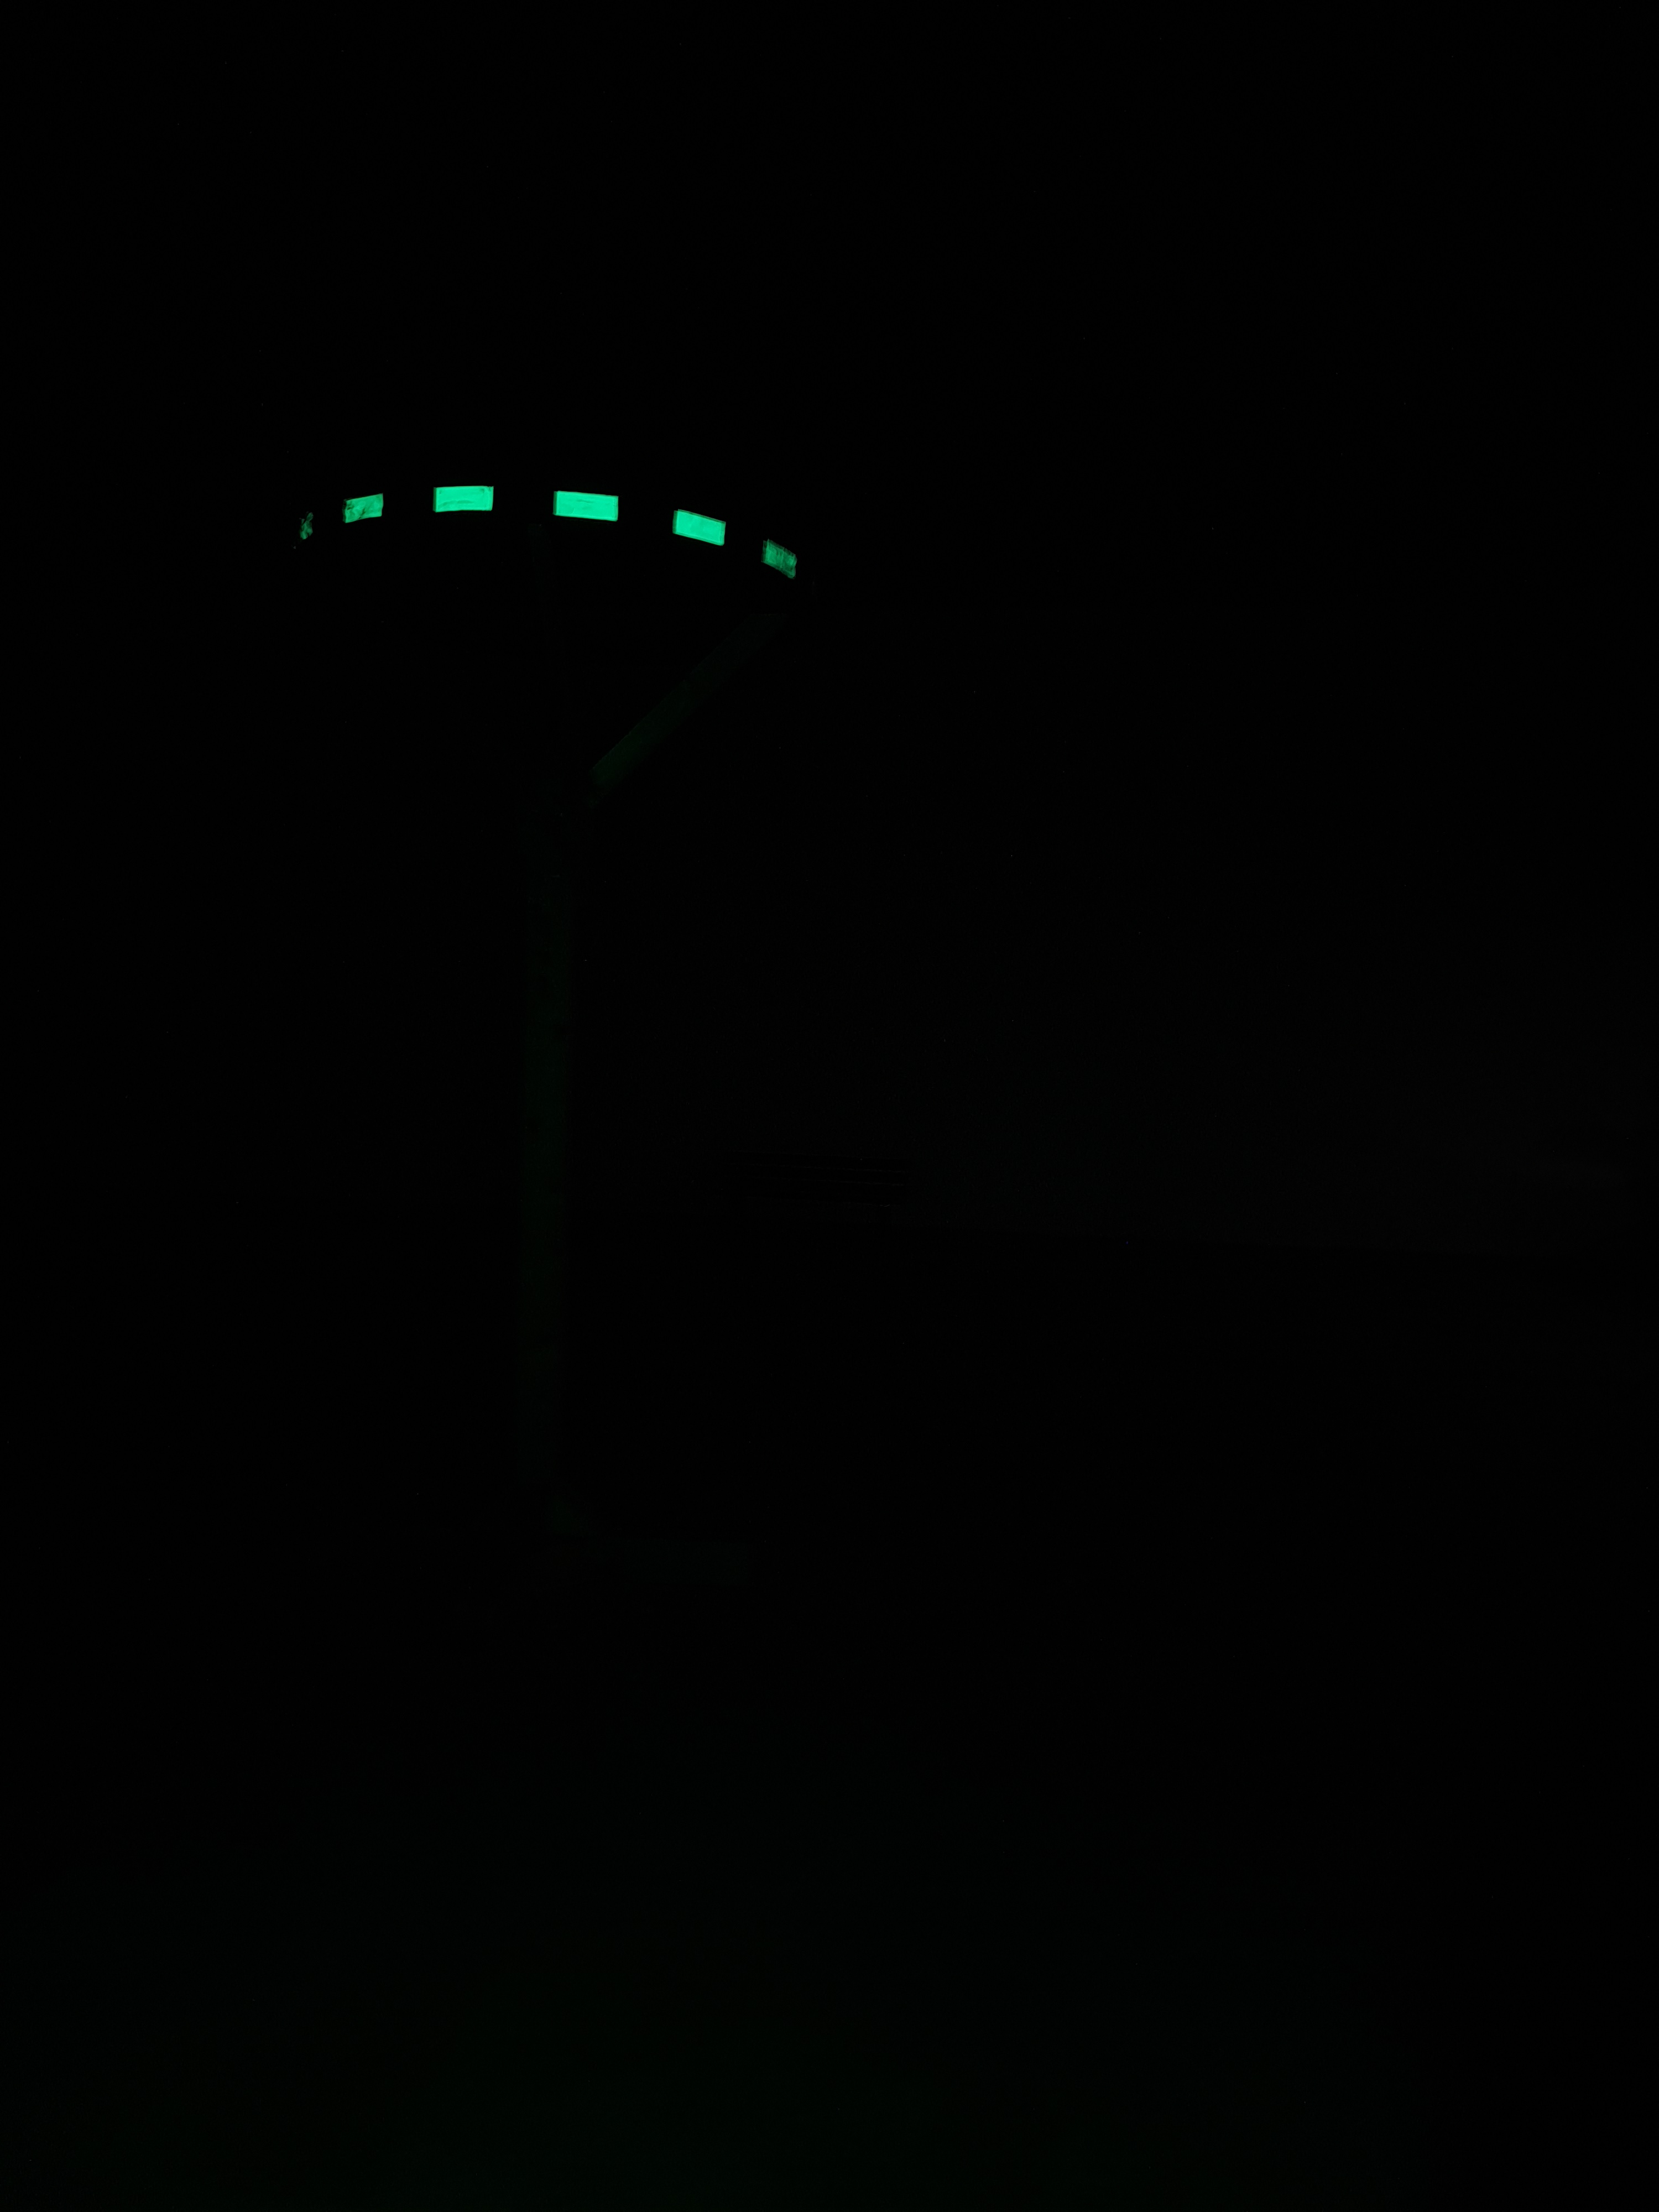hoop: (293, 482, 809, 590)
